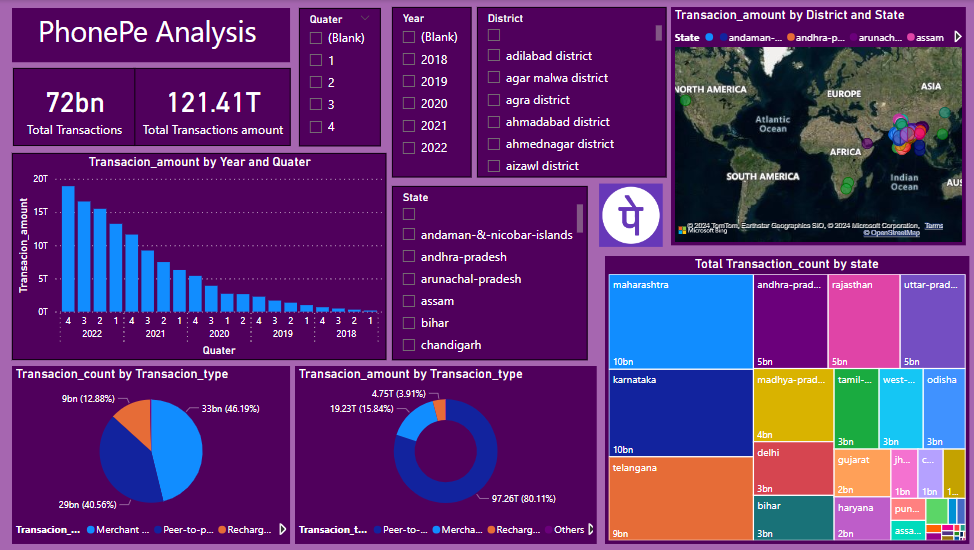

What the dashboard file says about the page in this screenshot:
{"tool":"powerbi","page":{"name":"Page 1","canvas":[1280,720],"ordinal":0},"visuals":[{"type":"card","fields":{"Values":["Sum(Agg_Trans.Transacion_amount)"]},"box":[178.6,89.7,204.9,102.4],"z":0},{"type":"card","fields":{"Values":["Sum(Agg_Trans.Transacion_count)"]},"box":[19,89.7,159.5,102.4],"z":1000},{"type":"textbox","box":[18.7,10.1,364.3,70.6],"z":2000},{"type":"clusteredColumnChart","fields":{"Category":["Agg_Trans.Year","Agg_Trans.Quater"],"Y":["Sum(Agg_Trans.Transacion_amount)"]},"box":[18.7,200.2,489.6,270.7],"z":3000},{"type":"treemap","fields":{"Group":["District_map.State"],"Values":["Sum(District_map.Transaction_count)"]},"box":[794.9,335.5,476.6,377.3],"z":4000},{"type":"slicer","fields":{"Values":["Agg_Trans.Quater"]},"box":[394.6,10.1,106.6,181.4],"z":5000},{"type":"slicer","fields":{"Values":["Data_map.District"]},"box":[626.8,9.8,247.7,223.2],"z":6000},{"type":"slicer","fields":{"Values":["Data_map.State"]},"box":[515.5,243.4,256.3,227.5],"z":7000},{"type":"donutChart","fields":{"Category":["Agg_Trans.Transacion_type"],"Y":["Sum(Agg_Trans.Transacion_amount)"]},"box":[388.8,479.5,394.6,233.3],"z":8000},{"type":"map","fields":{"Category":["Data_map.District"],"Size":["Sum(Agg_Trans.Transacion_amount)"],"Series":["Data_map.State"]},"box":[881.6,9.8,385.9,312.5],"z":9000},{"type":"slicer","fields":{"Values":["Agg_Trans.Year"]},"box":[515.9,9.8,103.7,223.2],"z":10000},{"type":"pieChart","fields":{"Category":["Agg_Trans.Transacion_type"],"Y":["Sum(Agg_Trans.Transacion_count)"]},"box":[18.7,479.5,364.3,233.3],"z":11000},{"type":"image","box":[750.6,204.2,158.4,155.5],"z":12000}]}

Visuals, with their boxes in screenshot pixels (x1, y1, x2, y2), scaled from the page's 1280x720 canvas onto the 974x550 screenshot:
card - Sum(Agg_Trans.Transacion_amount): (136, 69, 292, 147)
card - Sum(Agg_Trans.Transacion_count): (14, 69, 136, 147)
textbox: (14, 8, 291, 62)
clusteredColumnChart - Agg_Trans.Year x Agg_Trans.Quater: (14, 153, 387, 360)
treemap - District_map.State x Sum(District_map.Transaction_count): (605, 256, 968, 544)
slicer - Agg_Trans.Quater: (300, 8, 381, 146)
slicer - Data_map.District: (477, 7, 665, 178)
slicer - Data_map.State: (392, 186, 587, 360)
donutChart - Agg_Trans.Transacion_type x Sum(Agg_Trans.Transacion_amount): (296, 366, 596, 544)
map - Data_map.District x Sum(Agg_Trans.Transacion_amount): (671, 7, 964, 246)
slicer - Agg_Trans.Year: (393, 7, 471, 178)
pieChart - Agg_Trans.Transacion_type x Sum(Agg_Trans.Transacion_count): (14, 366, 291, 544)
image: (571, 156, 692, 275)
